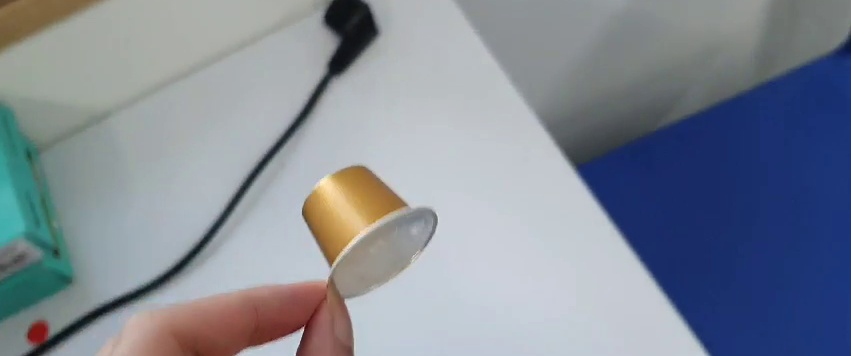capsule_8: (298, 162, 443, 304)
